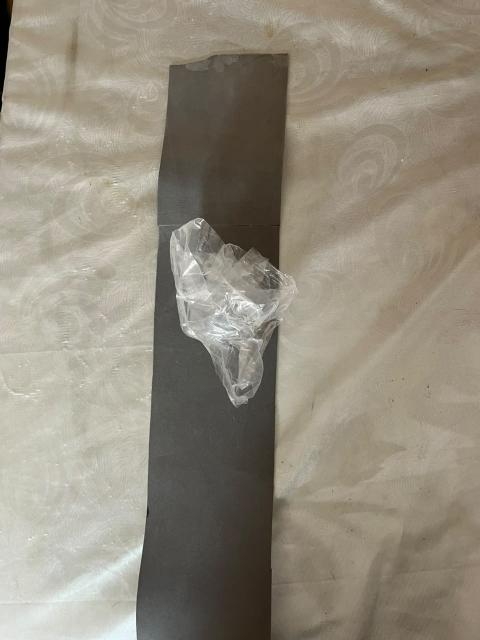LDPE: (140, 198, 359, 445)
